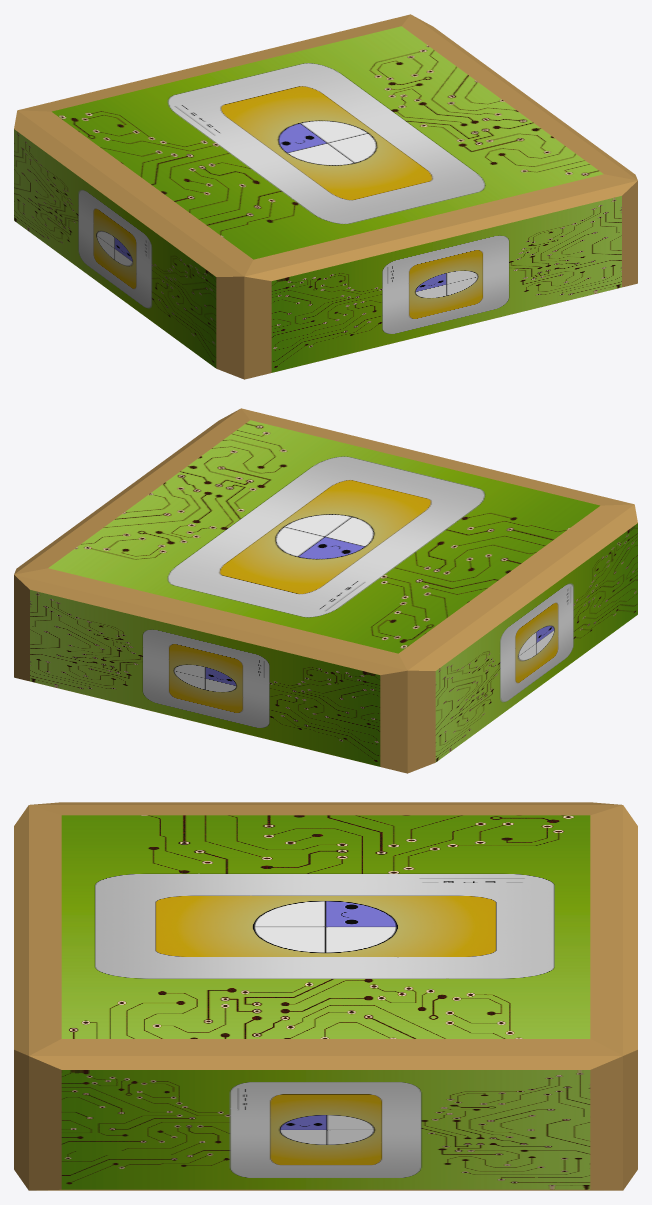
3 renders of one model, top to bottom at view 1: azimuth 30°, elevation 25°; view 2: azimuth 150°, elevation 25°; view 3: azimuth 270°, elevation 25°, orthographic. The views are drawn at different scales.
Visible parts, largest first — view 1: 1/4; view 2: 1/4; view 3: 1/4.
Boxes of the visible parts, x1=… form: 1/4: x1=14, y1=14, x2=637, y2=379; 1/4: x1=14, y1=408, x2=637, y2=773; 1/4: x1=14, y1=802, x2=637, y2=1190.
Bounding box in the file's own units: 213 × 52.5 × 210.
2 materials, 1 textured.
